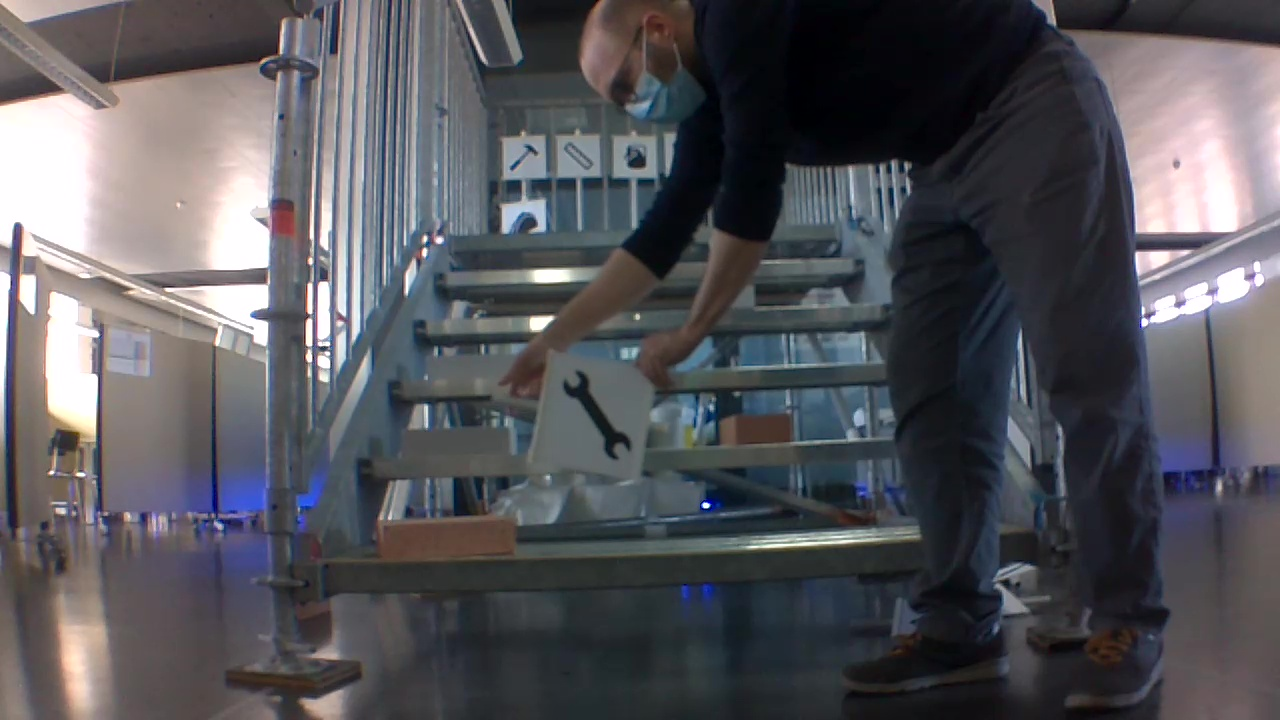brick: (377, 515, 514, 558), (404, 429, 514, 457), (424, 355, 513, 383), (722, 414, 789, 442)
bucket: (619, 139, 652, 172)
hammer: (503, 140, 541, 172)
ruler: (560, 139, 598, 171)
taco: (504, 206, 540, 234)
wrench: (556, 365, 638, 469)
